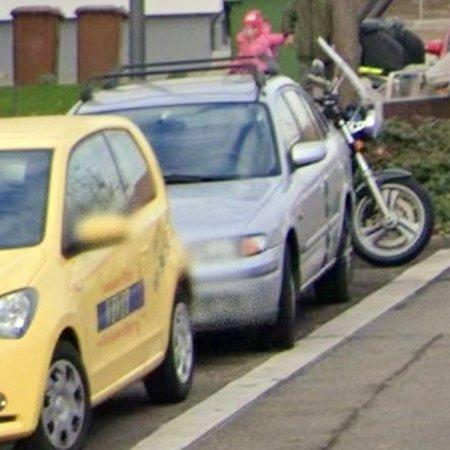taxis: (0, 116, 193, 450)
